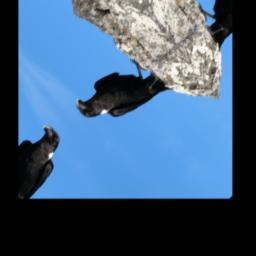Crow: (69, 45, 174, 146)
